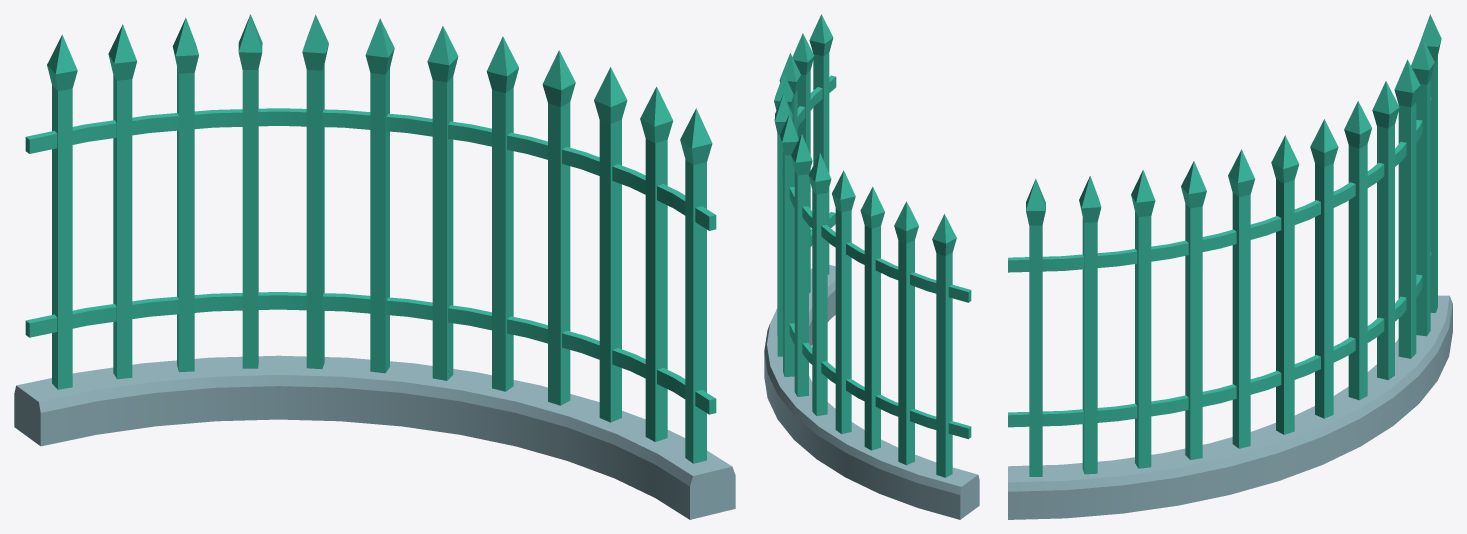
File: ironFenceBorderCurve.dae
3 views of the same model, side by side, from view 1: azimuth 30°, elevation 25°; view 2: azimuth 150°, elevation 25°; view 3: azimuth 270°, elevation 25° (orthographic). The views are drawn at different scales.
Visible parts, largest first — view 1: ironFenceBorderCurve; view 2: ironFenceBorderCurve; view 3: ironFenceBorderCurve.
Boxes of the visible parts, x1,y1,x2,y2 form: ironFenceBorderCurve: (14, 14, 735, 519); ironFenceBorderCurve: (764, 14, 979, 519); ironFenceBorderCurve: (1008, 14, 1452, 519).
Size of the model in its own units: 1 by 0.8239 by 1.
